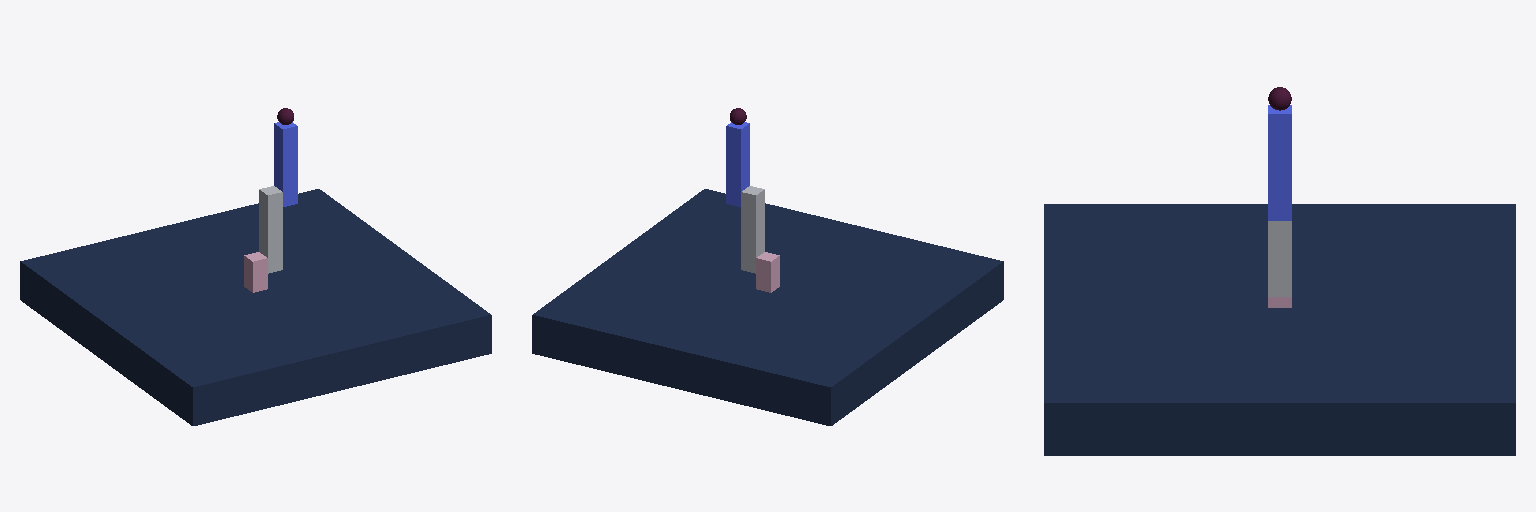
The robot description file, URDF, robot "materials":
<?xml version="1.0"?>
<robot name="materials">
<!-- Define materials -->
  <material name="color_1">
    <color rgba="0.173 0.231 0.349 1"/>
  </material>
  <material name="color_2">
    <color rgba="0.318 0.137 0.255 1"/>
  </material>
  <material name="color_3">
    <color rgba="0.839 0.678 0.773 1"/>
  </material>
  <material name="color_4">
    <color rgba="0.953 0.737 1.0 1"/>
  </material>
  <material name="color_5">
    <color rgba="0.749 0.765 0.788 1"/>
  </material>
  <material name="color_6">
    <color rgba="0.91 0.49 0.839 1"/>
  </material>
  <material name="color_7">
    <color rgba="0.373 0.451 0.957 1"/>
  </material>
  <material name="color_8">
    <color rgba="0.318 0.337 0.051 1"/>
  </material>

<!-- Define robot -->
<!-- Base -->
  <link name="base_link">
    <visual>
      <geometry>
        <box size="4.0 4.0 0.5"/>
      </geometry>
      <origin rpy="0 0 0" xyz="0 0 -0.25"/>
      <material name="color_1"/>
   </visual>
  </link>
<!-- Arm 1 -->
  <link name="arm_1">
    <visual>
      <geometry>
        <box size="0.2 0.2 0.4"/>
      </geometry>
      <origin rpy="0 0 0" xyz="0 0 0.2"/>
      <material name="color_3"/>
   </visual>
  </link>
<!-- Arm 2 -->
  <link name="arm_2">
    <visual>
      <geometry>
        <box size="0.2 0.2 1.0"/>
      </geometry>
      <origin rpy="0 0 0" xyz="0.1 0 0.4"/>
      <material name="color_5"/>
   </visual>
  </link>
<!-- Arm 3 -->
  <link name="arm_3">
    <visual>
      <geometry>
        <box size="0.2 0.2 1.0"/>
      </geometry>
      <origin rpy="0 0 0" xyz="0.1 0 0.4"/>
      <material name="color_7"/>
   </visual>
  </link>
<!-- Arm 4 5 6 -->
  <link name="arm_4">
  </link>
  <link name="arm_5">
  </link>
  <link name="arm_6">
    <visual>
      <geometry>
        <sphere radius="0.1"/>
      </geometry>
      <origin rpy="0 0 0" xyz="0 0 0"/>
      <material name="color_2"/>
   </visual>
  </link>
<!-- End effector -->
  <link name="end_effector">
    <visual>
      <geometry>
        <cylinder length="0.4" radius="0.002"/>
      </geometry>
      <origin rpy="0 0 0" xyz="0 0 0.2"/>
      <material name="color_4"/>
   </visual>
  </link>
<!-- Define joints -->
  <joint name="base_to_part_1" type="revolute">
    <parent link="base_link"/>
    <child link="arm_1"/>
    <origin rpy="0 0 0" xyz="0 0 0"/>
    <axis xyz="0 0 1"/>
    <limit effort="20" lower="-6.28" upper="6.28" velocity="1.57"/>
  </joint>
  <joint name="arm_1_to_arm_2" type="revolute">
    <parent link="arm_1"/>
    <child link="arm_2"/>
    <origin rpy="0 0 0" xyz="0.1 0 0.3"/>
    <axis xyz="1 0 0"/>
    <limit effort="20" lower="-6.28" upper="6.28" velocity="1.57"/>
  </joint>
  <joint name="arm_2_to_arm_3" type="revolute">
    <parent link="arm_2"/>
    <child link="arm_3"/>
    <origin rpy="0 0 0" xyz="0.2 0 0.8"/>
    <axis xyz="1 0 0"/>
    <limit effort="20" lower="-6.28" upper="6.28" velocity="1.57"/>
  </joint>
  <joint name="arm_3_to_arm_4" type="revolute">
    <parent link="arm_3"/>
    <child link="arm_4"/>
    <origin rpy="0 0 0" xyz="0.1 0 1.0"/>
    <axis xyz="0 0 1"/>
    <limit effort="20" lower="-6.28" upper="6.28" velocity="1.57"/>
  </joint>
  <joint name="arm_4_to_arm_5" type="revolute">
    <parent link="arm_4"/>
    <child link="arm_5"/>
    <origin rpy="0 0 0" xyz="0 0 0"/>
    <axis xyz="0 1 0"/>
    <limit effort="20" lower="-6.28" upper="6.28" velocity="1.57"/>
  </joint>
  <joint name="arm_5_to_arm_6" type="revolute">
    <parent link="arm_5"/>
    <child link="arm_6"/>
    <origin rpy="0 0 0" xyz="0 0 0"/>
    <axis xyz="1 0 0"/>
    <limit effort="20" lower="-6.28" upper="6.28" velocity="1.57"/>
  </joint>
  <joint name="arm_6_to_end_effector" type="revolute">
    <parent link="arm_6"/>
    <child link="end_effector"/>
    <origin rpy="0 0 0" xyz="0 0 0"/>
    <axis xyz="0 0 1"/>
    <limit effort="0" lower="0" upper="0" velocity="0"/>
  </joint>
</robot>

--- What the picture shows (computed from the rendered views, not written in the file) ---
The picture shows the robot from 3 angles, left to right: view 1: azimuth 30°, elevation 25°; view 2: azimuth 150°, elevation 25°; view 3: azimuth 270°, elevation 25°; orthographic projection.
Robot: materials — 8 links, 7 joints (7 revolute); root link base_link; default pose: every joint at zero.
Visible links, largest first — view 1: base_link, arm_2, arm_3, arm_1; view 2: base_link, arm_2, arm_3, arm_1; view 3: base_link, arm_3, arm_2.
Boxes of the visible links, <box> form: base_link: <box>20,189,491,425</box>; arm_2: <box>259,186,282,273</box>; arm_3: <box>274,122,297,206</box>; arm_1: <box>244,252,267,292</box>; base_link: <box>532,189,1003,425</box>; arm_2: <box>741,186,764,273</box>; arm_3: <box>726,122,749,206</box>; arm_1: <box>756,252,779,292</box>; base_link: <box>1044,204,1515,455</box>; arm_3: <box>1268,105,1291,220</box>; arm_2: <box>1268,221,1291,296</box>.
Size in the robot's own frame: 4 by 4 by 3 metres.
Geometry: primitives only (box / cylinder / sphere), no mesh files.
